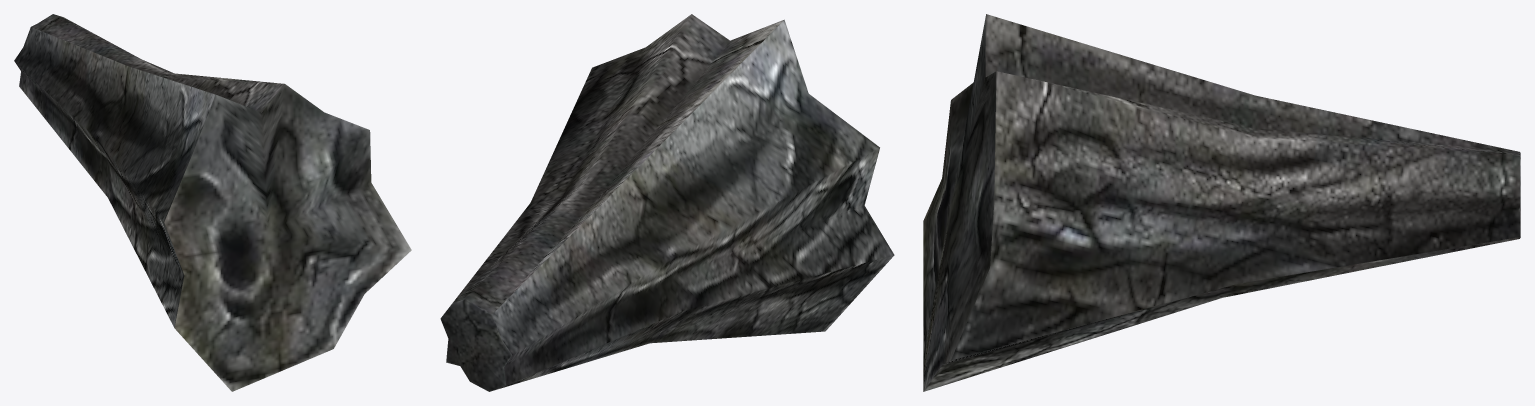
3 renders of one model, left to right at view 1: azimuth 30°, elevation 25°; view 2: azimuth 150°, elevation 25°; view 3: azimuth 270°, elevation 25°, orthographic. The views are drawn at different scales.
Parts seen in each view (by area): view 1: model_Object100; view 2: model_Object100; view 3: model_Object100.
Part boxes in pixels (left/top/right/bottom): model_Object100: left=14, top=14, right=411, bottom=391; model_Object100: left=440, top=14, right=894, bottom=391; model_Object100: left=923, top=14, right=1520, bottom=391.
Size of the model in its own units: 3.53 by 3.76 by 5.91.
Materials: 1 (1 with a texture image).
